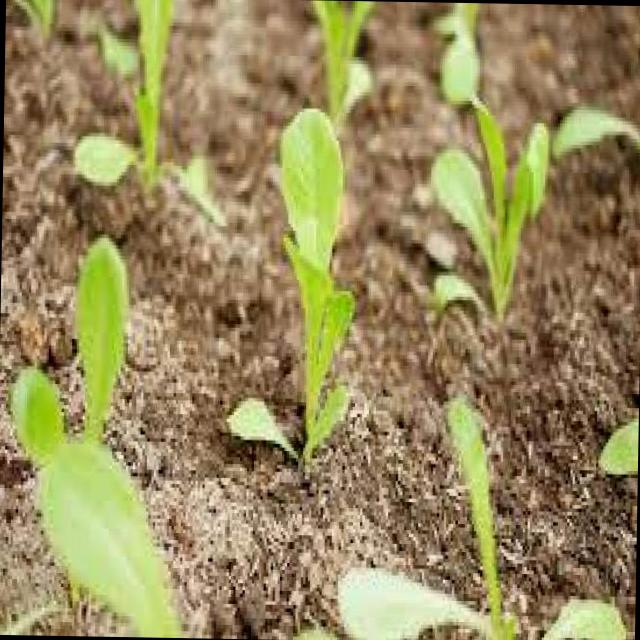Lettuce-Not-Ready-to-Harvest: (226, 109, 354, 470), (430, 106, 640, 316), (338, 396, 514, 640), (76, 0, 219, 223), (39, 444, 179, 637), (20, 237, 129, 446), (320, 0, 371, 123), (435, 2, 480, 103), (541, 599, 626, 640)
